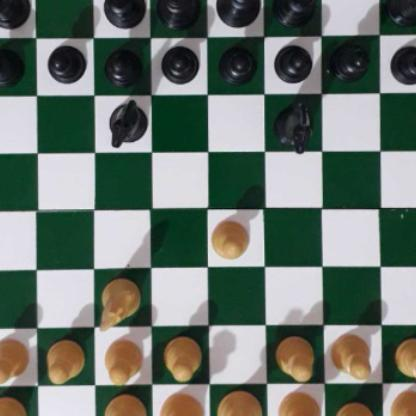black-bishop: (270, 0, 318, 25), (100, 0, 145, 26)
black-king: (212, 0, 261, 28)
black-knight: (274, 99, 313, 152), (107, 98, 146, 145)
black-pawn: (160, 40, 197, 85), (46, 42, 85, 84), (274, 39, 312, 82), (331, 39, 368, 81), (104, 44, 141, 86), (218, 40, 255, 82), (390, 42, 416, 85), (0, 45, 24, 84)
black-queen: (155, 0, 201, 28)
black-rook: (0, 0, 30, 28), (386, 0, 416, 25)
white-bishop: (277, 391, 323, 416), (103, 394, 146, 416)
white-king: (218, 392, 262, 416)
white-knight: (97, 274, 140, 328), (334, 398, 377, 416)
white-pawn: (329, 330, 373, 378), (274, 332, 315, 383), (100, 337, 142, 383), (44, 337, 84, 383), (161, 334, 201, 379), (210, 218, 250, 261), (0, 335, 28, 383), (395, 335, 416, 379)
white-queen: (158, 391, 203, 416)
white-rook: (391, 385, 416, 416), (0, 390, 25, 416)
